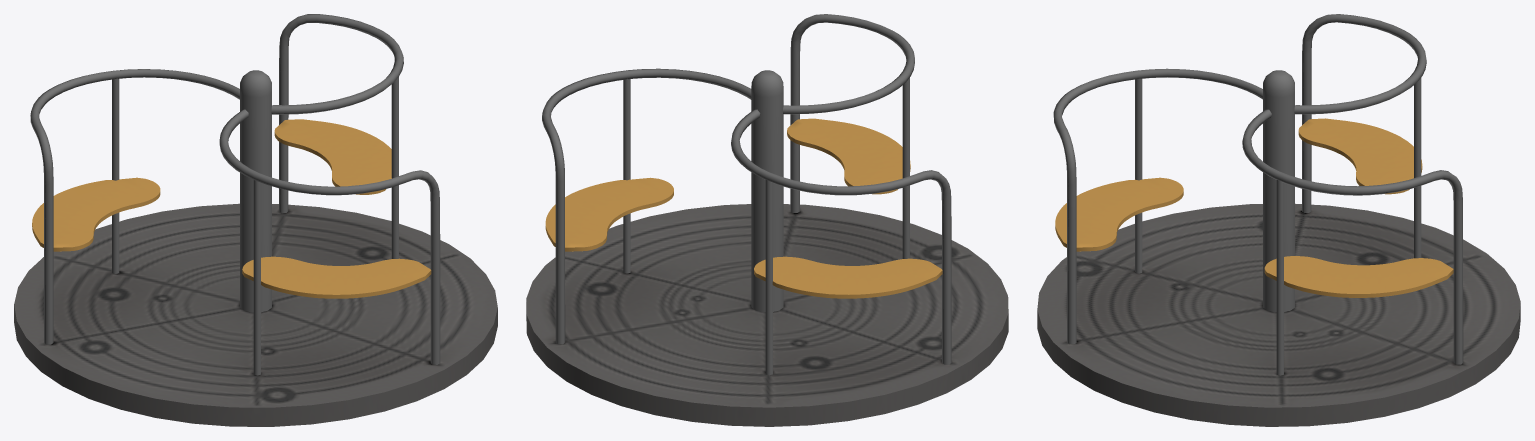
The model's file is качель круглая.glb.
3 renders of one model, left to right at view 1: azimuth 30°, elevation 25°; view 2: azimuth 150°, elevation 25°; view 3: azimuth 270°, elevation 25°, orthographic.
Parts seen in each view (by area): view 1: Object014; view 2: Object014; view 3: Object014.
Part boxes in pixels (<box>): Object014: <box>14,14,497,426</box>; Object014: <box>526,14,1008,426</box>; Object014: <box>1037,14,1520,426</box>.
Size of the model in its own units: 1.51 by 0.8708 by 1.51.
1 material, 1 textured.
